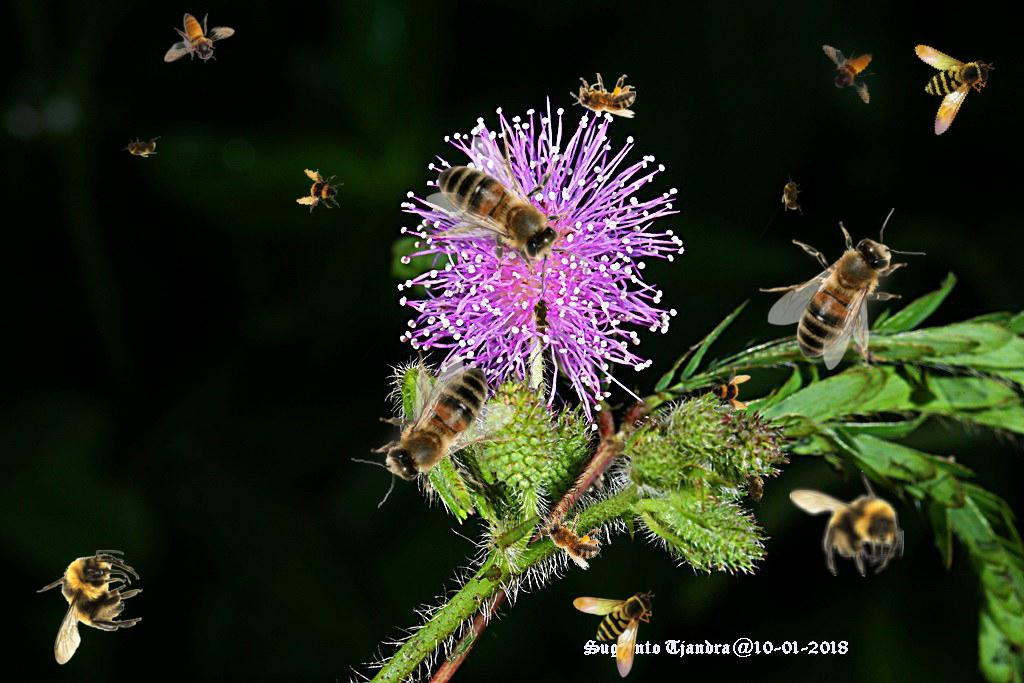Bee: (345, 343, 530, 523), (426, 128, 588, 295), (759, 208, 926, 370), (36, 550, 143, 665), (789, 470, 904, 577), (889, 35, 997, 147), (573, 590, 655, 678), (531, 499, 611, 572), (819, 31, 887, 114), (164, 13, 235, 63), (570, 73, 636, 118), (294, 166, 346, 218), (707, 368, 751, 412), (738, 466, 770, 510), (531, 293, 553, 333), (781, 175, 803, 215), (121, 136, 161, 158)
